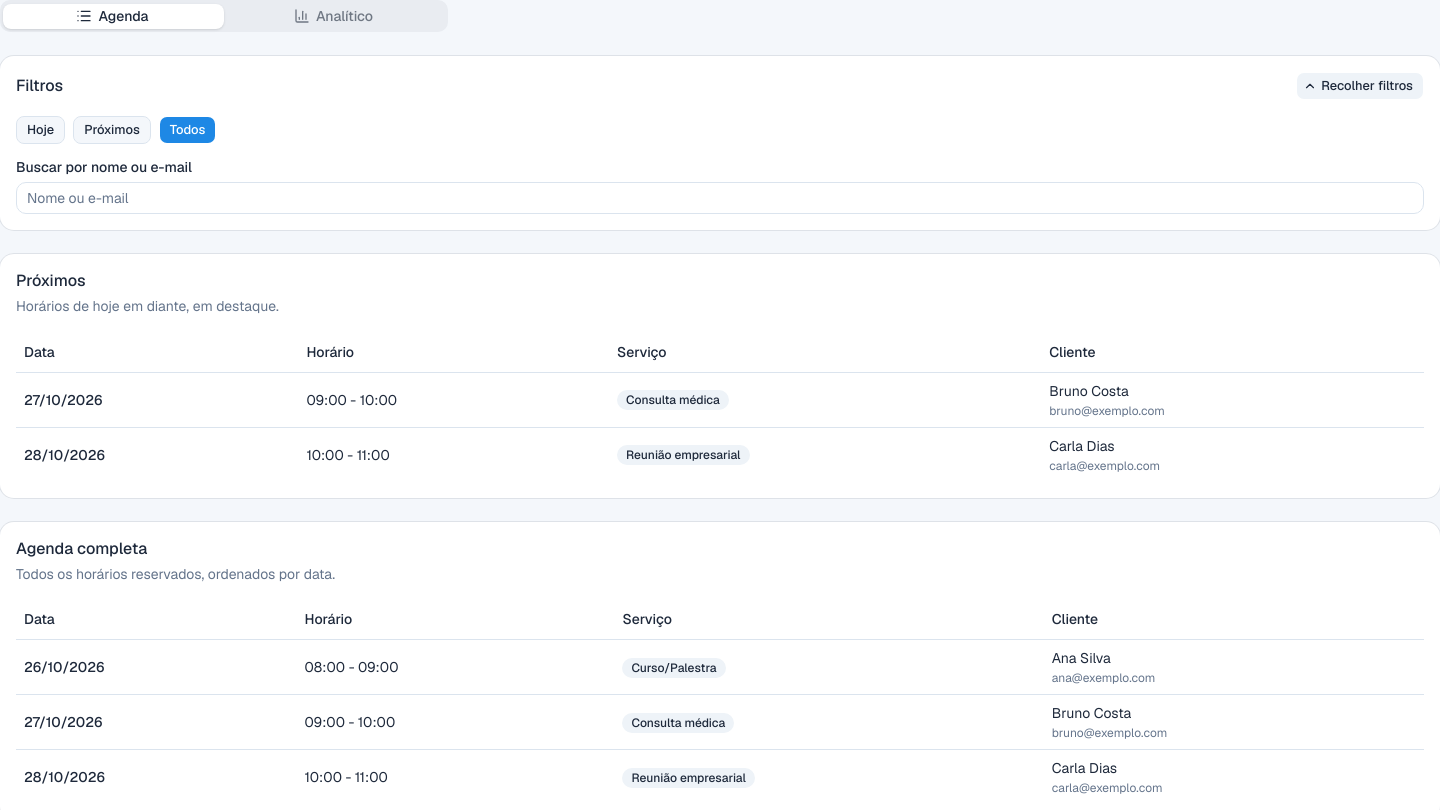
Test: PainelAdmin › vazio quando filtro ou busca zera a lista
Type "inexistente" into the search field labelled "Buscar por nome ou e-mail" at (720, 198), box [16,182,1424,214]
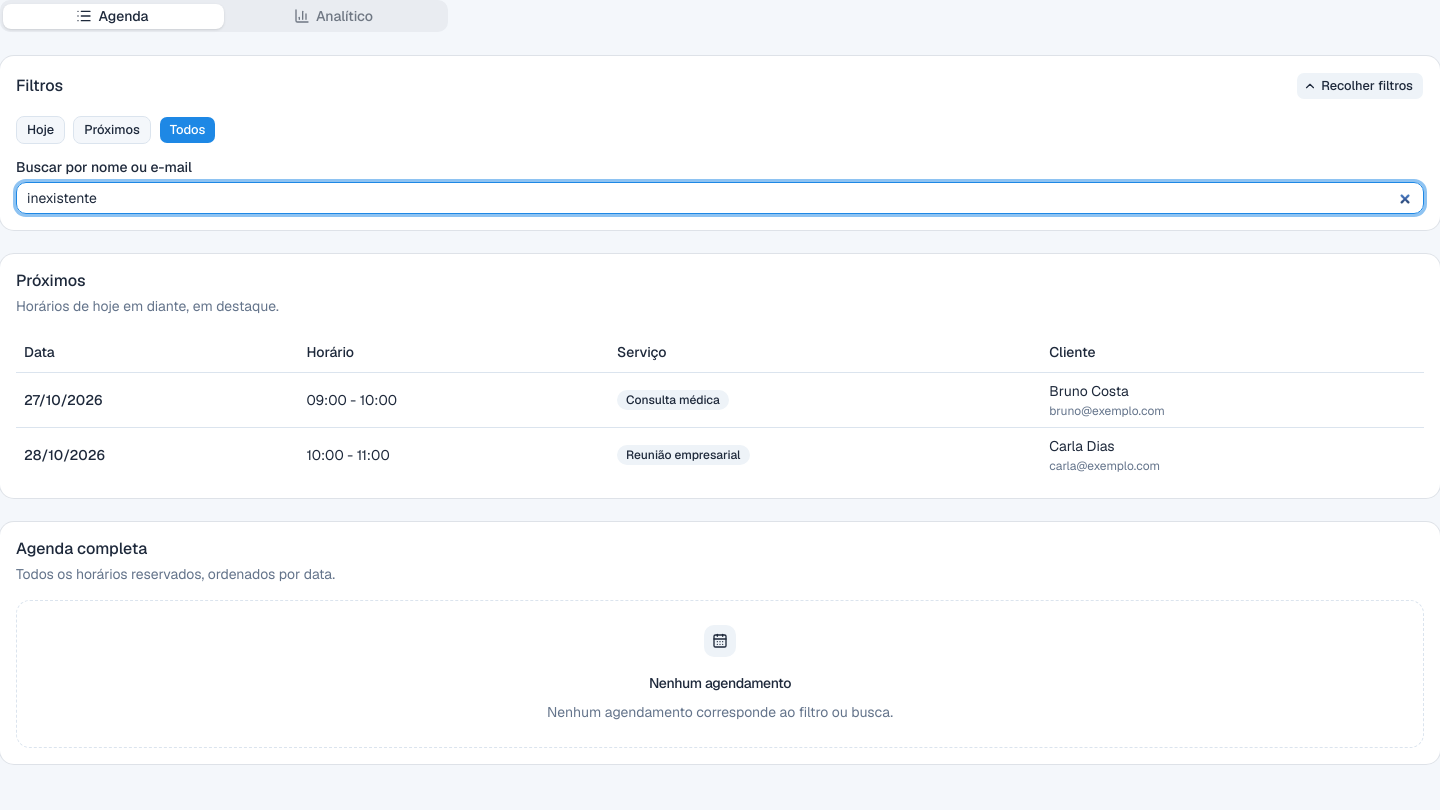
Expected: the text "Nenhum agendamento corresponde ao filtro ou busca." is shown, [547,700,893,723]
